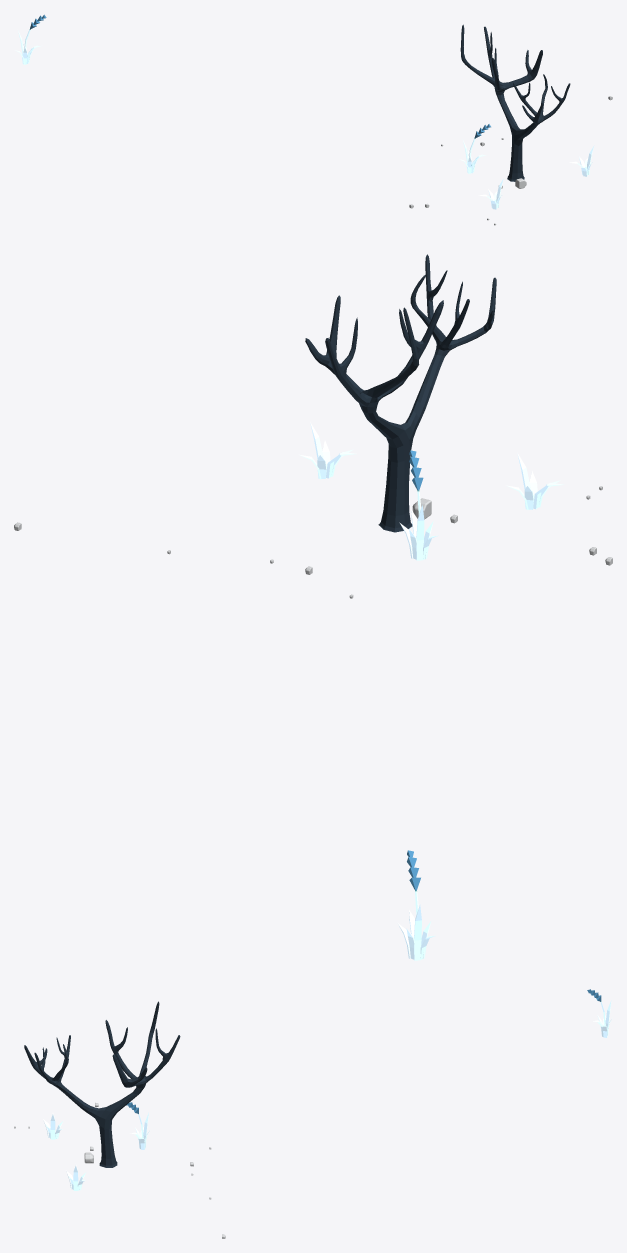
The model's file is treeDead1.glb.
3 views of the same model, one above another, from view 1: azimuth 30°, elevation 25°; view 2: azimuth 150°, elevation 25°; view 3: azimuth 270°, elevation 25° (orthographic). The views are drawn at different scales.
Visible parts, largest first — view 1: CommonTree_Dead_1, plant.006, plant.002; view 2: CommonTree_Dead_1, plant.002, plant.006; view 3: CommonTree_Dead_1, plant.006, plant.002.
Part boxes in pixels (<box>): CommonTree_Dead_1: <box>460,24,570,181</box>; plant.006: <box>15,14,46,64</box>; plant.002: <box>459,124,490,173</box>; CommonTree_Dead_1: <box>305,254,496,532</box>; plant.002: <box>399,450,438,560</box>; plant.006: <box>397,850,435,960</box>; CommonTree_Dead_1: <box>24,1001,180,1167</box>; plant.006: <box>587,989,611,1037</box>; plant.002: <box>126,1102,149,1149</box>.
Size of the model in its own units: 53.76 by 17.87 by 65.02.
